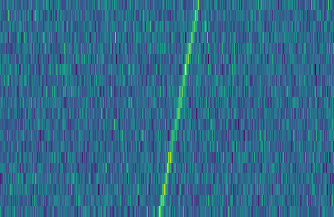signal: (155, 0, 204, 217)
